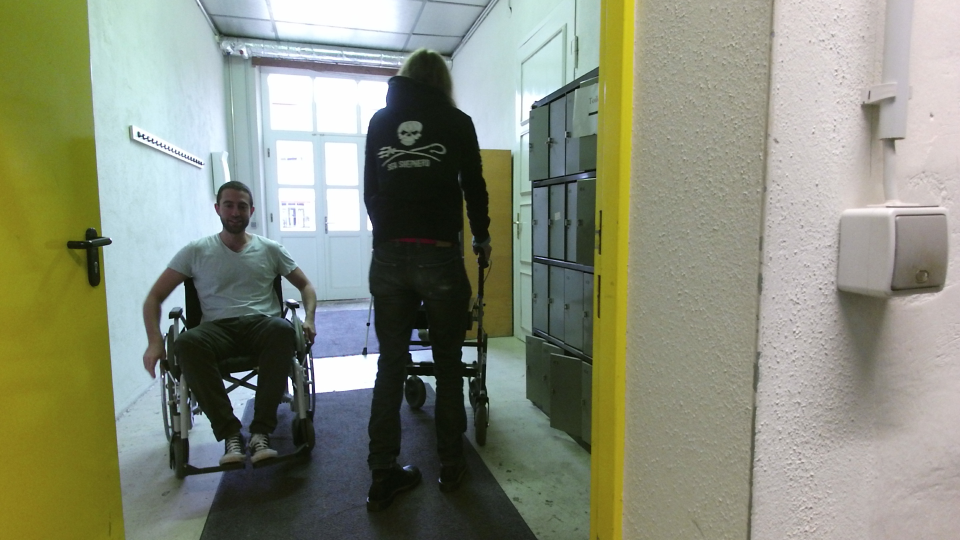wheelchair: (142, 175, 317, 483)
